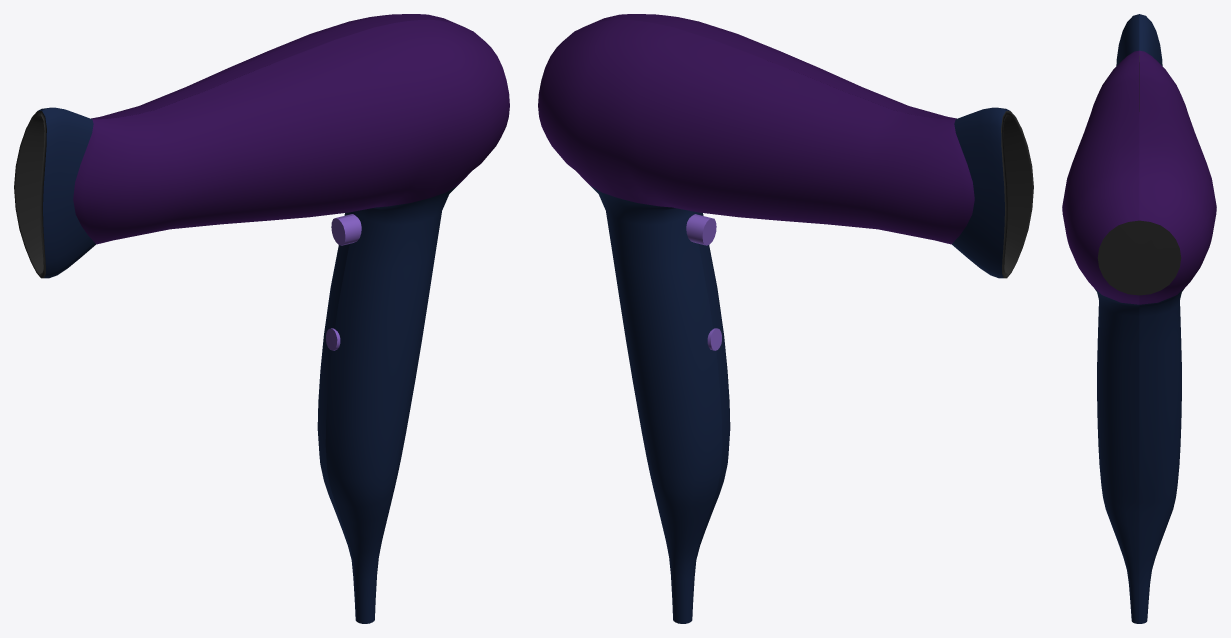
File: Dryer.fbx
3 renders of one model, left to right at view 1: azimuth 30°, elevation 25°; view 2: azimuth 150°, elevation 25°; view 3: azimuth 270°, elevation 25°, orthographic. The views are drawn at different scales.
Visible parts, largest first — view 1: HairDryer; view 2: HairDryer; view 3: HairDryer.
Boxes of the visible parts, x1,y1,x2,y2 form: HairDryer: [14, 14, 509, 623]; HairDryer: [538, 14, 1033, 623]; HairDryer: [1062, 14, 1216, 623].
Bounding box in the file's own units: 300 × 371 × 108.
